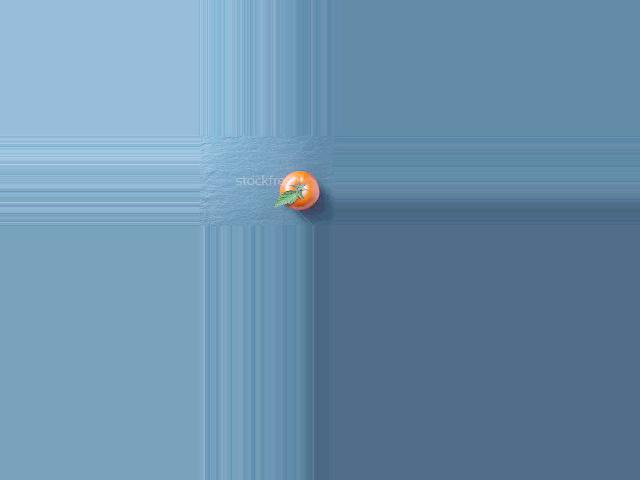tomato: (279, 171, 319, 209)
